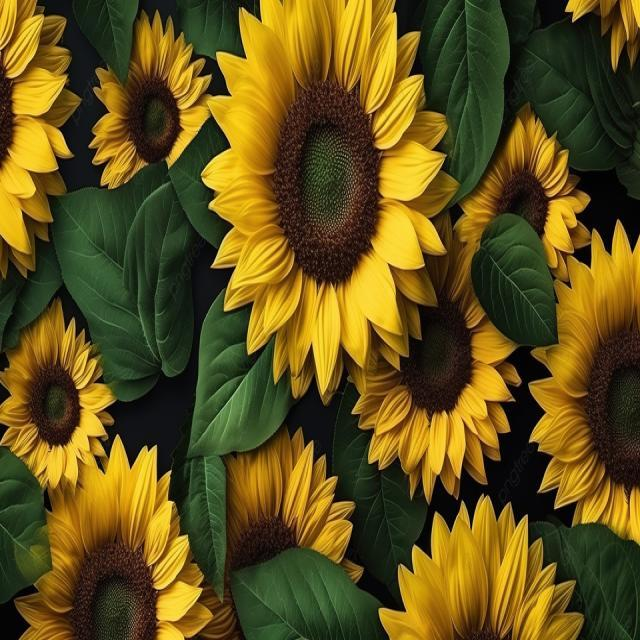sunflower: (200, 0, 460, 404), (349, 208, 522, 504), (13, 433, 213, 639), (194, 421, 364, 638), (528, 217, 640, 544), (377, 492, 584, 638), (454, 100, 592, 281), (0, 295, 117, 494), (0, 0, 81, 279), (88, 7, 212, 189), (564, 0, 640, 73)
